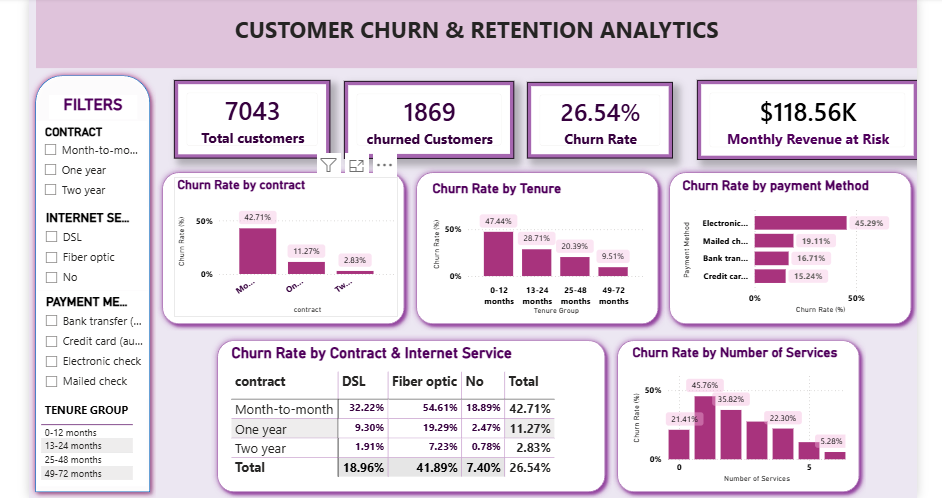

This screenshot's page, from the dashboard's own definition file:
{"tool":"powerbi","page":{"name":"Page 1","canvas":[1280,720],"ordinal":0},"visuals":[{"type":"shape","box":[0,101.7,183.3,618.3],"z":0},{"type":"shape","box":[261.7,483.3,576.7,236.7],"z":1000},{"type":"shape","box":[838.3,483.3,366.7,236.7],"z":2000},{"type":"shape","box":[183.3,241.7,366.7,236.7],"z":3000},{"type":"shape","box":[548.3,241.7,366.7,236.7],"z":4000},{"type":"shape","box":[913.3,241.7,366.7,236.7],"z":5000},{"type":"textbox","box":[10.1,0,1269.9,101.2],"z":6000},{"type":"cardVisual","fields":{"Data":["CountNonNull(customer_churn churn_customers.customer_id)"]},"box":[208.3,118.3,225,113.3],"z":7000},{"type":"cardVisual","fields":{"Data":["Count(customer_churn churn_customers.customer_id)"]},"box":[453.3,120,245,111.7],"z":8000},{"type":"cardVisual","fields":{"Data":["customer_churn.Churn Rate"]},"box":[716.7,121.7,210,110],"z":9000},{"type":"cardVisual","fields":{"Data":["customer_churn.Monthly Revenue at Risk"]},"box":[961.7,118.3,318.3,115],"z":10000},{"type":"clusteredColumnChart","title":"Churn Rate by contract","fields":{"Category":["customer_churn.contract"],"Y":["customer_churn.Churn_Rate"]},"box":[208.3,258.3,323.3,201.7],"z":11000},{"type":"clusteredColumnChart","title":"Churn Rate by Tenure","fields":{"Category":["customer_churn.tenure_group"],"Y":["customer_churn.Churn_Rate"]},"box":[576.7,261.7,315,198.3],"z":12000},{"type":"clusteredBarChart","title":"Churn Rate by payment Method","fields":{"Category":["customer_churn.payment_method"],"Y":["customer_churn.Churn_Rate"]},"box":[936.7,258.3,316.7,201.7],"z":13000},{"type":"pivotTable","title":"Churn Rate by Contract & Internet Service","fields":{"Rows":["customer_churn.contract"],"Columns":["customer_churn.internet_service"],"Values":["customer_churn.Churn_Rate"]},"box":[286.7,498.3,523.3,205],"z":14000},{"type":"clusteredColumnChart","title":"Churn Rate by Number of Services","fields":{"Category":["customer_churn.total_services"],"Y":["customer_churn.Churn_Rate"]},"box":[863.3,498.3,316.7,205],"z":15000},{"type":"textbox","title":"FILTERS","box":[28.3,140,126.7,35],"z":16000},{"type":"slicer","fields":{"Values":["customer_churn.contract"]},"box":[10,176.7,160,125],"z":17000},{"type":"slicer","fields":{"Values":["customer_churn.internet_service"]},"box":[11.7,301.7,160,120],"z":18000},{"type":"slicer","fields":{"Values":["customer_churn.payment_method"]},"box":[11.7,421.7,160,155],"z":19000},{"type":"tableEx","fields":{"Values":["customer_churn.tenure_group"]},"box":[11.7,576.7,158.3,126.7],"z":20000}]}

Visuals, with their boxes in screenshot pixels (x1, y1, x2, y2):
shape: <box>32,79,157,497</box>
shape: <box>210,339,604,497</box>
shape: <box>604,339,854,497</box>
shape: <box>157,175,407,336</box>
shape: <box>406,175,656,336</box>
shape: <box>655,175,905,336</box>
textbox: <box>39,10,905,79</box>
cardVisual - CountNonNull(customer_churn churn_customers.customer_id): <box>174,91,327,168</box>
cardVisual - Count(customer_churn churn_customers.customer_id): <box>341,92,508,168</box>
cardVisual - customer_churn.Churn Rate: <box>521,93,664,168</box>
cardVisual - customer_churn.Monthly Revenue at Risk: <box>688,91,905,169</box>
"Churn Rate by contract" clusteredColumnChart: <box>174,186,394,324</box>
"Churn Rate by Tenure" clusteredColumnChart: <box>425,188,640,324</box>
"Churn Rate by payment Method" clusteredBarChart: <box>671,186,887,324</box>
"Churn Rate by Contract & Internet Service" pivotTable: <box>227,350,584,490</box>
"Churn Rate by Number of Services" clusteredColumnChart: <box>621,350,837,490</box>
"FILTERS" textbox: <box>51,105,138,129</box>
slicer - customer_churn.contract: <box>39,130,148,216</box>
slicer - customer_churn.internet_service: <box>40,216,149,297</box>
slicer - customer_churn.payment_method: <box>40,297,149,403</box>
tableEx - customer_churn.tenure_group: <box>40,403,148,490</box>
